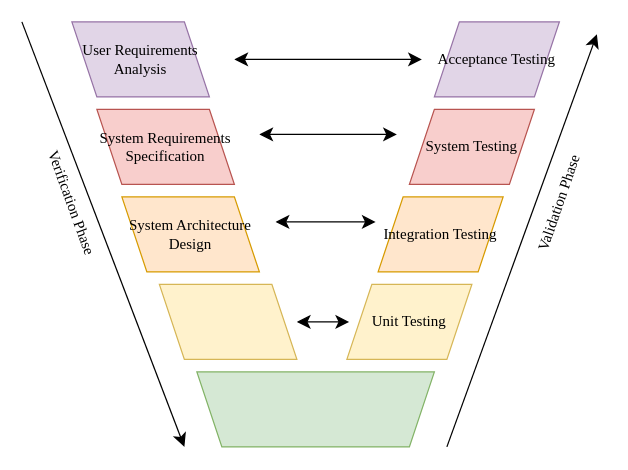
Some shapes in this 628 by 470 pixel diagram are drawn without their labels. The centre of each missing label's shape, as x and y in pixels:
"Coding" goes at (315,409).
"Module Design" goes at (227,321).
